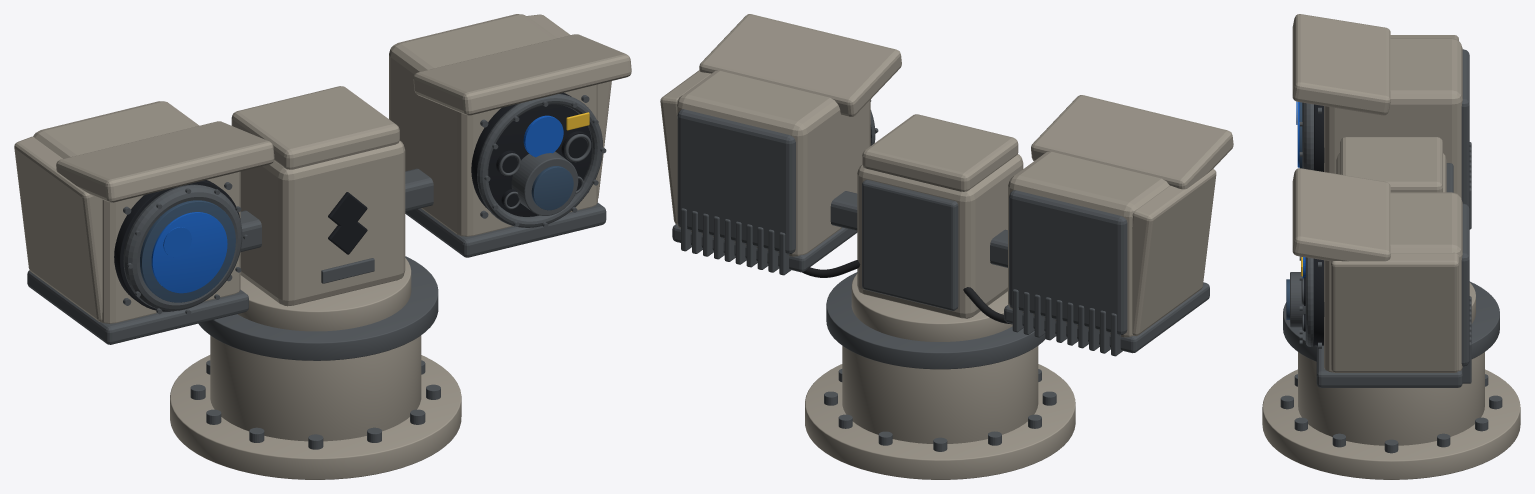
File: Fixed_Dual_Sensor_Camera.fbx
3 renders of one model, left to right at view 1: azimuth 30°, elevation 25°; view 2: azimuth 150°, elevation 25°; view 3: azimuth 270°, elevation 25°, orthographic. The views are drawn at different scales.
Visible parts, largest first — view 1: Center_Housing, Base_Riser, MS_Body, Base_Flange, EOIR_OuterArmor, MS_TopHood, EOIR_TopHood, EOIR_Body, Center_Top_Cap, Upper_Ring, Azimuth_Collar, EOIR_BottomTray (+17 smaller); view 2: Base_Riser, MS_Body, EOIR_Rear, MS_Rear, Base_Flange, MS_TopHood, EOIR_TopHood, Center_Back_Plate, EOIR_OuterArmor, Center_Housing, Center_Top_Cap, EOIR_Body (+6 smaller); view 3: MS_OuterArmor, Base_Flange, EOIR_Body, Base_Riser, EOIR_TopHood, MS_TopHood, MS_Body, Center_Top_Cap, MS_BottomTray, Upper_Ring, MS_Rear, EOIR_Rear (+5 smaller).
Part boxes in pixels (left/top/right/bottom): Center_Housing: left=240, top=140, right=405, bottom=306; Base_Riser: left=210, top=335, right=421, bottom=441; MS_Body: left=389, top=14, right=597, bottom=236; Base_Flange: left=170, top=355, right=461, bottom=479; EOIR_OuterArmor: left=14, top=136, right=102, bottom=321; MS_TopHood: left=413, top=34, right=631, bottom=115; EOIR_TopHood: left=56, top=121, right=274, bottom=202; EOIR_Body: left=33, top=101, right=240, bottom=323; Center_Top_Cap: left=231, top=86, right=399, bottom=169; Upper_Ring: left=198, top=256, right=438, bottom=360; Azimuth_Collar: left=237, top=258, right=411, bottom=331; EOIR_BottomTray: left=27, top=270, right=248, bottom=344; Base_Riser: left=842, top=346, right=1038, bottom=443; MS_Body: left=677, top=71, right=870, bottom=256; EOIR_Rear: left=1009, top=190, right=1127, bottom=335; MS_Rear: left=677, top=109, right=795, bottom=254; Base_Flange: left=805, top=364, right=1075, bottom=479; MS_TopHood: left=699, top=14, right=901, bottom=116; EOIR_TopHood: left=1031, top=95, right=1233, bottom=189; Center_Back_Plate: left=862, top=179, right=958, bottom=310; EOIR_OuterArmor: left=1132, top=169, right=1216, bottom=336; Center_Housing: left=857, top=154, right=1023, bottom=318; Center_Top_Cap: left=862, top=114, right=1018, bottom=191; EOIR_Body: left=1008, top=151, right=1169, bottom=337; MS_OuterArmor: left=1331, top=252, right=1458, bottom=372; Base_Flange: left=1262, top=369, right=1520, bottom=479; EOIR_Body: left=1324, top=38, right=1462, bottom=198; Base_Riser: left=1298, top=352, right=1484, bottom=445; EOIR_TopHood: left=1292, top=14, right=1390, bottom=115; MS_TopHood: left=1292, top=168, right=1390, bottom=261; MS_Body: left=1324, top=192, right=1462, bottom=372; Center_Top_Cap: left=1340, top=137, right=1442, bottom=192; MS_BottomTray: left=1316, top=345, right=1462, bottom=387; Upper_Ring: left=1283, top=281, right=1499, bottom=361; MS_Rear: left=1461, top=203, right=1469, bottom=366; EOIR_Rear: left=1461, top=49, right=1469, bottom=207.
Bounding box in the file's own units: 609 × 372 × 290.
